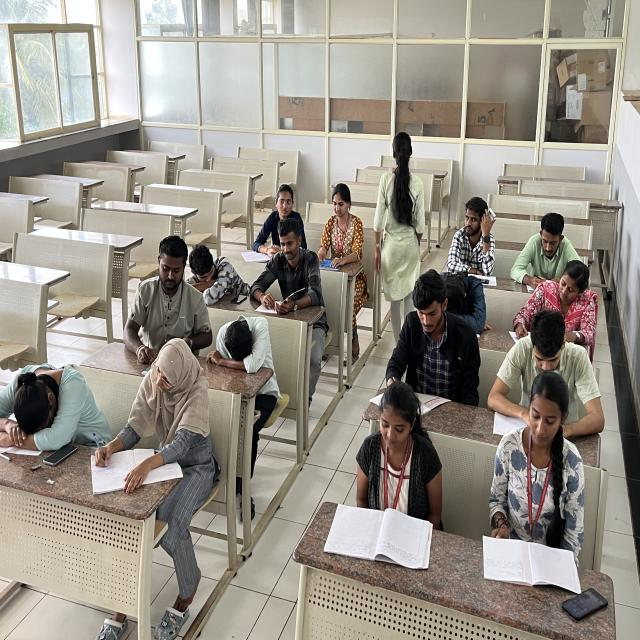Reading: (482, 369, 592, 577), (345, 385, 442, 551)
Sleeping: (4, 356, 105, 436), (185, 236, 248, 308), (211, 310, 279, 369), (440, 262, 491, 322)
Writing: (92, 344, 218, 488), (124, 230, 212, 364), (508, 262, 608, 346), (245, 185, 311, 262)
